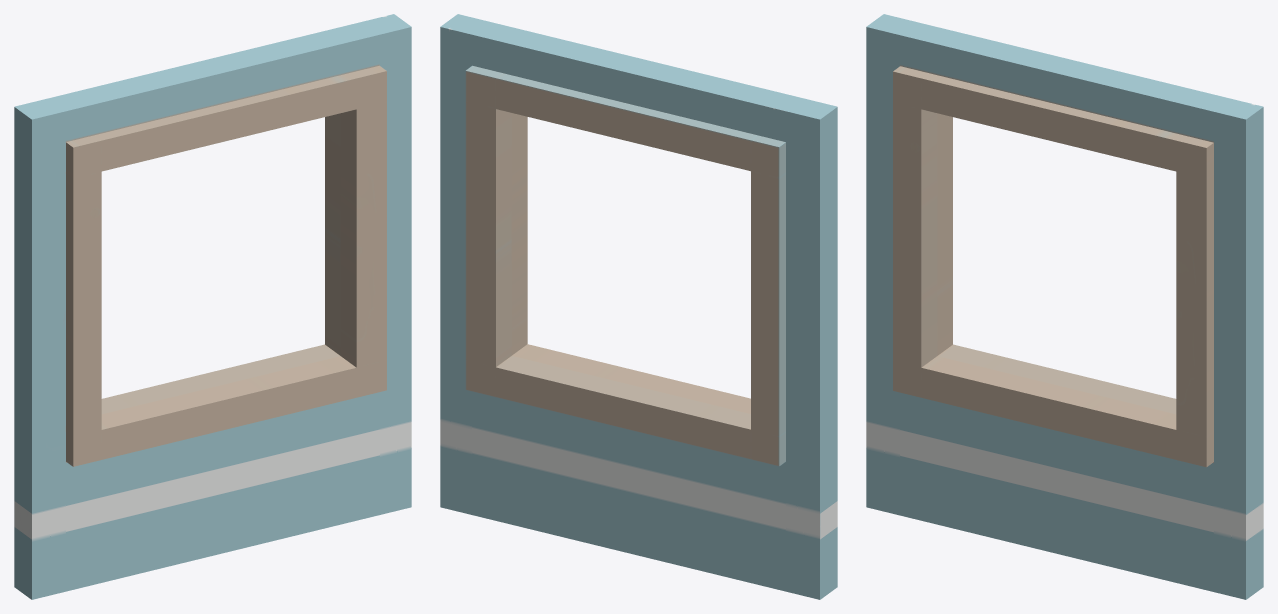
The model's file is fensterramen.fbx.
3 renders of one model, left to right at view 1: azimuth 30°, elevation 25°; view 2: azimuth 150°, elevation 25°; view 3: azimuth 330°, elevation 25°, orthographic.
Visible parts, largest first — view 1: Cube.005; view 2: Cube.005; view 3: Cube.005.
Part boxes in pixels (left/top/right/bottom): Cube.005: left=14, top=14, right=411, bottom=599; Cube.005: left=440, top=14, right=837, bottom=599; Cube.005: left=866, top=14, right=1263, bottom=599.
Bounding box in the file's own units: 497 × 600 × 71.99.
